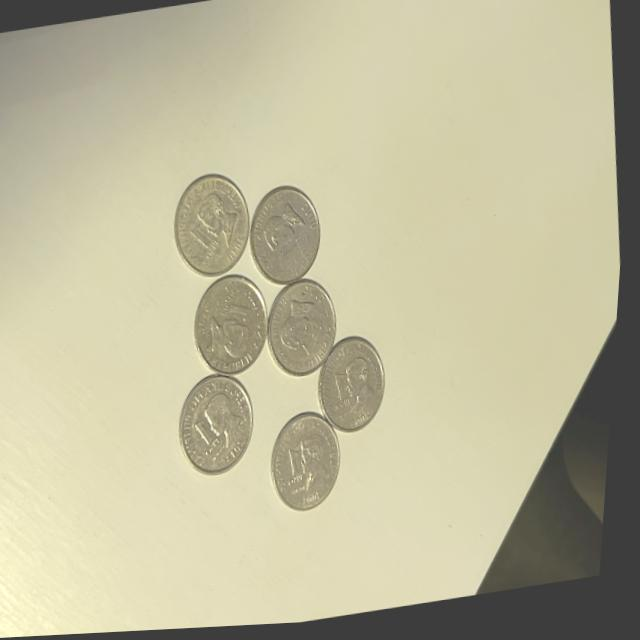1_Old_Front: (192, 417, 230, 464), (328, 364, 362, 415), (219, 292, 260, 331), (280, 446, 314, 493), (188, 223, 224, 261), (303, 318, 331, 361), (276, 237, 312, 264)
